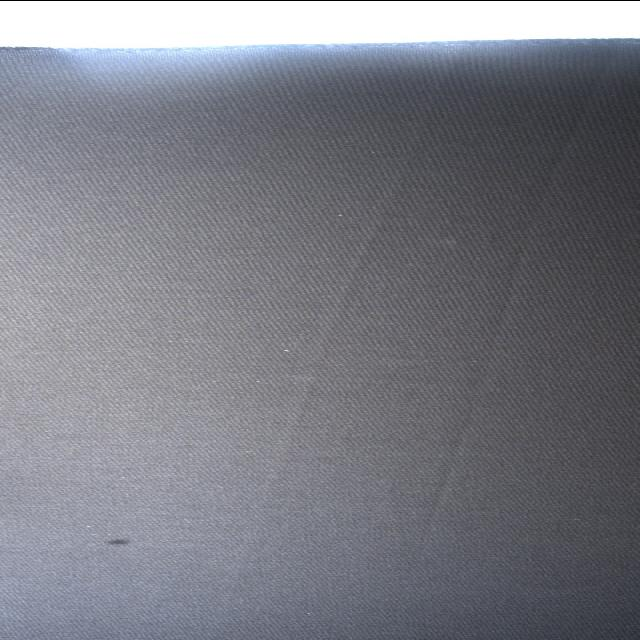crease: (250, 53, 469, 525), (416, 112, 597, 541)
